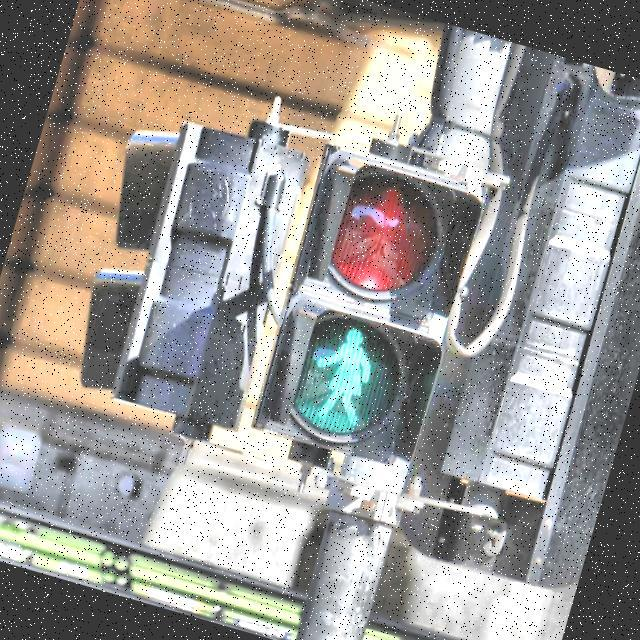green_light: (296, 316, 386, 434)
